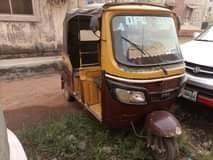keke: (60, 0, 184, 159)
